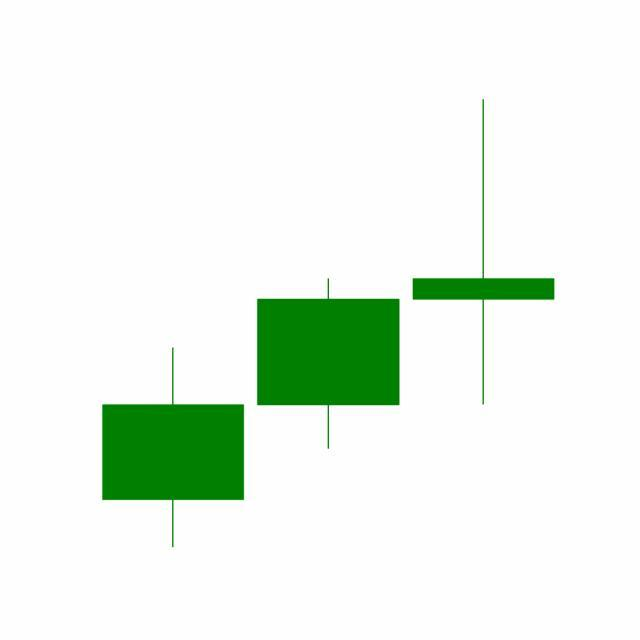Spinning Top: (406, 96, 562, 409)
